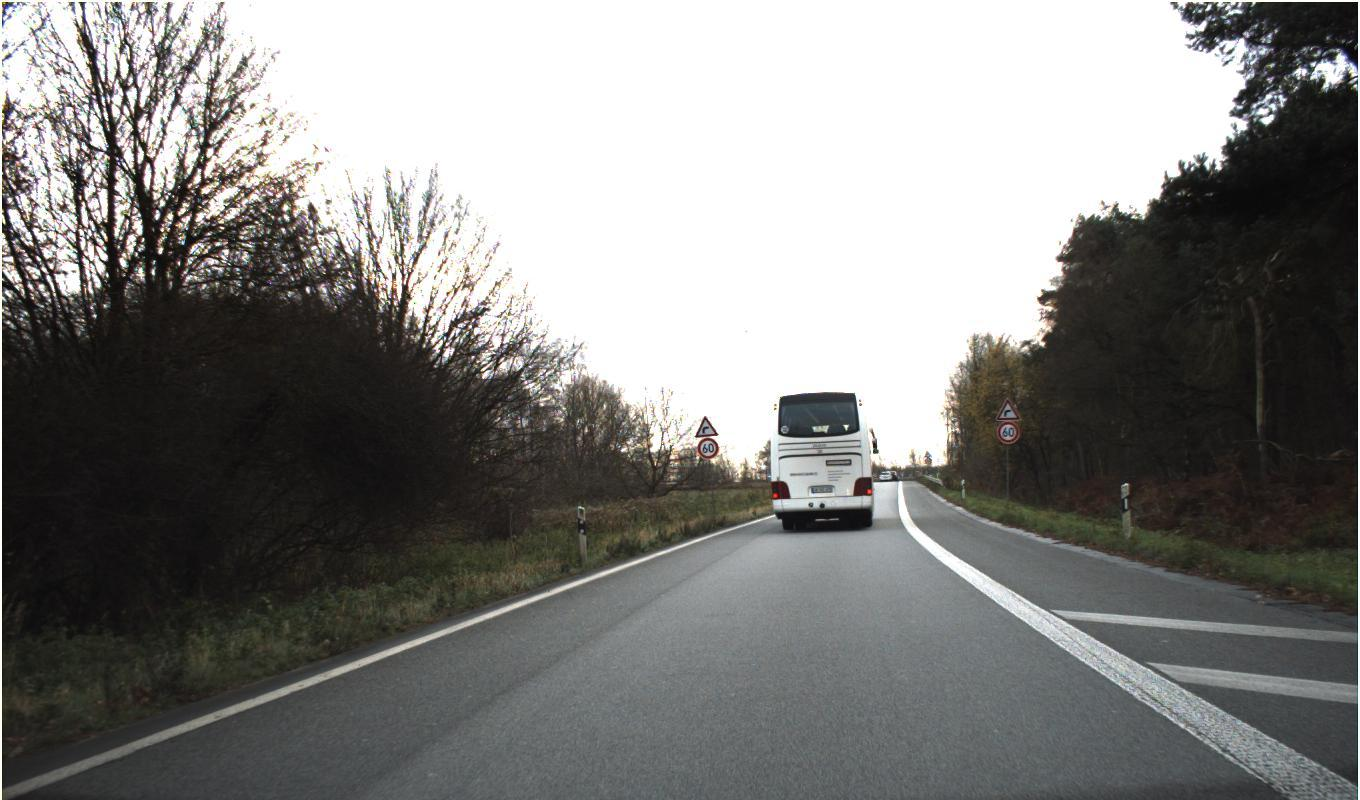20: (994, 395, 1022, 420), (693, 413, 719, 437)
speed limit 60 prohibitory: (995, 421, 1020, 445), (696, 436, 719, 458)
